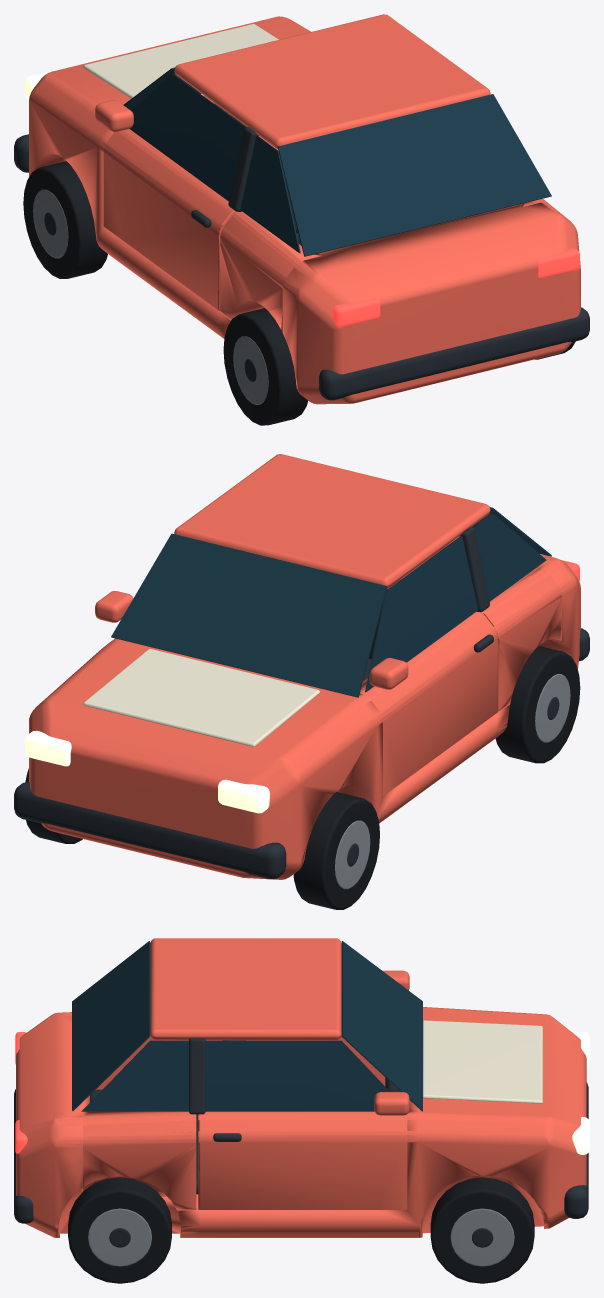
Rendered from car_latch_a.glb.
3 renders of one model, top to bottom at view 1: azimuth 30°, elevation 25°; view 2: azimuth 150°, elevation 25°; view 3: azimuth 270°, elevation 25°, orthographic. The views are drawn at different scales.
Visible parts, largest first — view 1: Body, RearGlass, Roof, DoorPanelFrontLeft, DoorWindowFrontLeft, RearBumper, QuarterPanelLeft, TireFrontLeft, TireRearLeft, HoodInset, QuarterGlassLeft, HubFrontLeft (+5 smaller); view 2: Body, Windshield, Roof, DoorPanelFrontLeft, HoodInset, DoorWindowFrontLeft, FrontBumper, QuarterPanelLeft, TireFrontLeft, TireRearLeft, QuarterGlassLeft, HubRearLeft (+7 smaller); view 3: Body, DoorPanelFrontRight, Roof, DoorWindowFrontRight, HoodInset, QuarterPanelRight, Windshield, RearGlass, TireFrontRight, TireRearRight, QuarterGlassRight, HubFrontRight (+6 smaller).
Part boxes in pixels (x1=…): Body: x1=29, y1=16, x2=580, y2=404; RearGlass: x1=277, y1=94, x2=551, y2=256; Roof: x1=174, y1=14, x2=490, y2=149; DoorPanelFrontLeft: x1=103, y1=129, x2=236, y2=310; DoorWindowFrontLeft: x1=129, y1=74, x2=245, y2=201; RearBumper: x1=319, y1=307, x2=589, y2=400; QuarterPanelLeft: x1=220, y1=211, x2=321, y2=332; TireFrontLeft: x1=23, y1=161, x2=107, y2=278; TireRearLeft: x1=223, y1=308, x2=307, y2=425; HoodInset: x1=83, y1=24, x2=278, y2=98; QuarterGlassLeft: x1=240, y1=135, x2=300, y2=253; HubFrontLeft: x1=33, y1=189, x2=68, y2=258; Body: x1=29, y1=536, x2=580, y2=879; Windshield: x1=111, y1=533, x2=386, y2=697; Roof: x1=174, y1=454, x2=490, y2=588; DoorPanelFrontLeft: x1=360, y1=612, x2=498, y2=795; HoodInset: x1=83, y1=649, x2=319, y2=746; DoorWindowFrontLeft: x1=365, y1=535, x2=477, y2=692; FrontBumper: x1=14, y1=782, x2=286, y2=879; QuarterPanelLeft: x1=482, y1=567, x2=561, y2=710; TireFrontLeft: x1=293, y1=792, x2=379, y2=909; TireRearLeft: x1=495, y1=646, x2=580, y2=763; QuarterGlassLeft: x1=473, y1=513, x2=546, y2=601; HubRearLeft: x1=535, y1=674, x2=570, y2=742; Body: x1=16, y1=1007, x2=586, y2=1237; DoorPanelFrontRight: x1=198, y1=1111, x2=407, y2=1209; Roof: x1=150, y1=938, x2=341, y2=1040; DoorWindowFrontRight: x1=205, y1=1040, x2=389, y2=1111; HoodInset: x1=423, y1=1020, x2=542, y2=1103; QuarterPanelRight: x1=83, y1=1109, x2=196, y2=1209; Windshield: x1=341, y1=941, x2=422, y2=1111; RearGlass: x1=72, y1=941, x2=150, y2=1110; TireFrontRight: x1=430, y1=1177, x2=534, y2=1283; TireRearRight: x1=68, y1=1177, x2=171, y2=1283; QuarterGlassRight: x1=81, y1=1040, x2=188, y2=1111; HubFrontRight: x1=450, y1=1208, x2=514, y2=1266.
Size of the model in its own units: 1.89 by 1.54 by 3.43.
